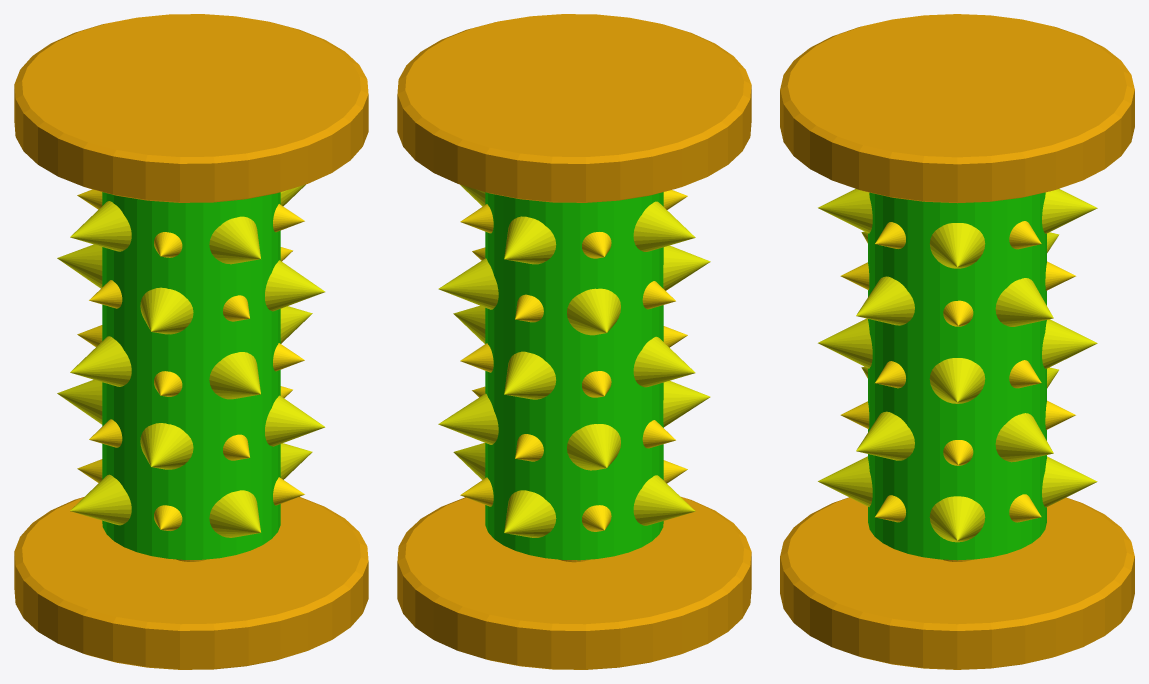
Rendered from trap 2.fbx.
3 views of the same model, side by side, from view 1: azimuth 30°, elevation 25°; view 2: azimuth 150°, elevation 25°; view 3: azimuth 270°, elevation 25° (orthographic).
Visible parts, largest first — view 1: Cylinder.002, Cylinder, Cone, Cone.001; view 2: Cylinder.002, Cylinder, Cone, Cone.001; view 3: Cylinder.002, Cylinder, Cone, Cone.001.
Boxes of the visible parts, bbox=[...] form: Cylinder.002: bbox=[14, 14, 368, 669]; Cylinder: bbox=[102, 192, 280, 559]; Cone: bbox=[57, 184, 325, 537]; Cone.001: bbox=[77, 189, 304, 530]; Cylinder.002: bbox=[397, 14, 751, 669]; Cylinder: bbox=[485, 192, 663, 560]; Cone: bbox=[438, 184, 710, 537]; Cone.001: bbox=[460, 190, 687, 531]; Cylinder.002: bbox=[780, 14, 1134, 669]; Cylinder: bbox=[868, 192, 1046, 560]; Cone: bbox=[818, 189, 1097, 542]; Cone.001: bbox=[840, 221, 1075, 522].
Bounding box in the file's own units: 396 × 632 × 396.
